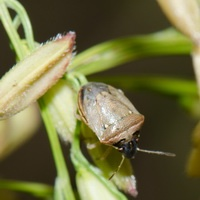insect: (78, 82, 143, 157)
